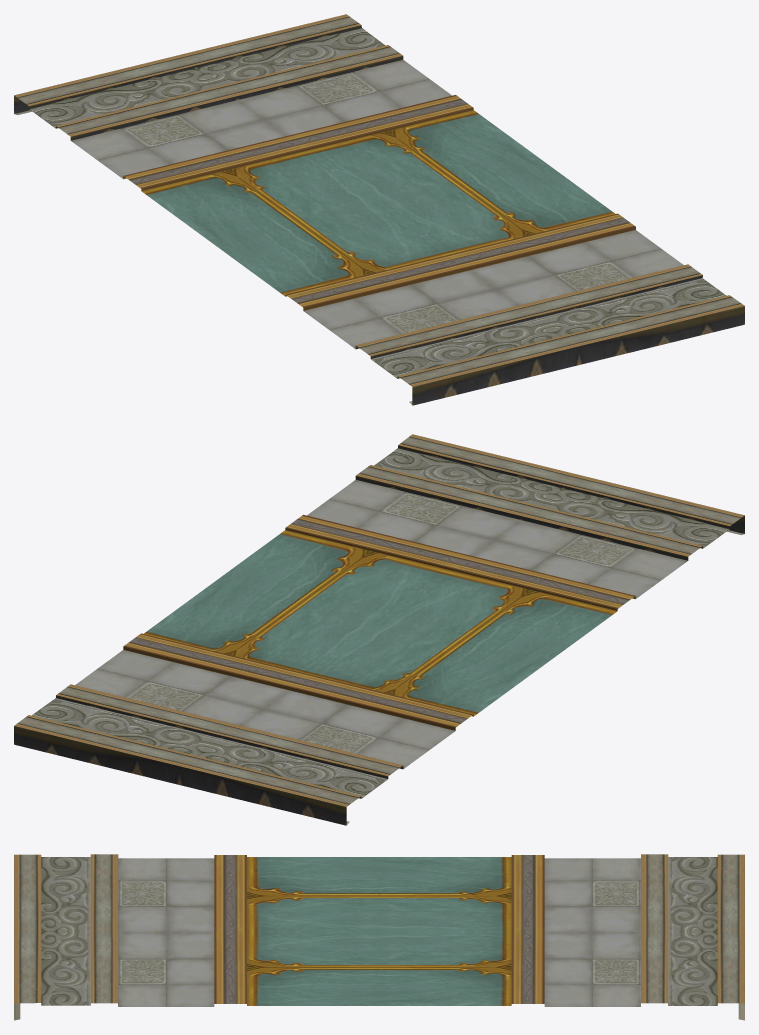
Rendered from Yland1_dm_13 Yland1.FBX.
The picture shows the model from 3 angles, top to bottom: view 1: azimuth 30°, elevation 25°; view 2: azimuth 150°, elevation 25°; view 3: azimuth 270°, elevation 25°; orthographic projection. The views are drawn at different scales.
Visible parts, largest first — view 1: Yland1_dm_13 Yland1; view 2: Yland1_dm_13 Yland1; view 3: Yland1_dm_13 Yland1.
Boxes of the visible parts, box(x1,y1,x2,y2) form: Yland1_dm_13 Yland1: box(14, 14, 744, 405); Yland1_dm_13 Yland1: box(14, 434, 744, 825); Yland1_dm_13 Yland1: box(14, 854, 744, 1020).
Bounding box in the file's own units: 5.98 × 0.323 × 12.4.
